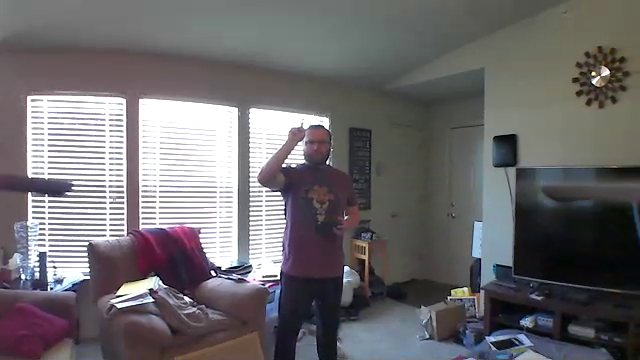up: (283, 114, 309, 147)
